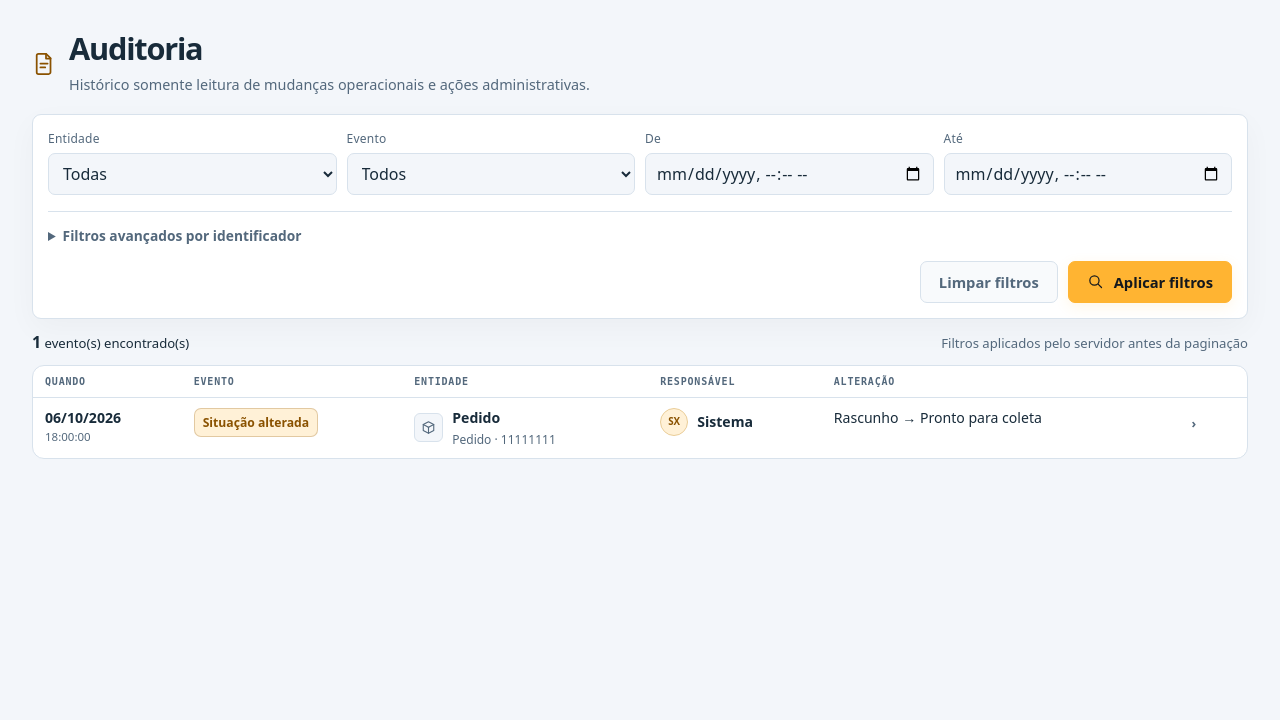
Test: AuditPage › preserva rastreabilidade de eventos do sistema sem responsável pessoal
Expected: the text "Sistema" is shown, [697,412,753,431]
Click the button named "Ver detalhes do evento 11111111" at [1194, 423], box [1179,408,1209,438]
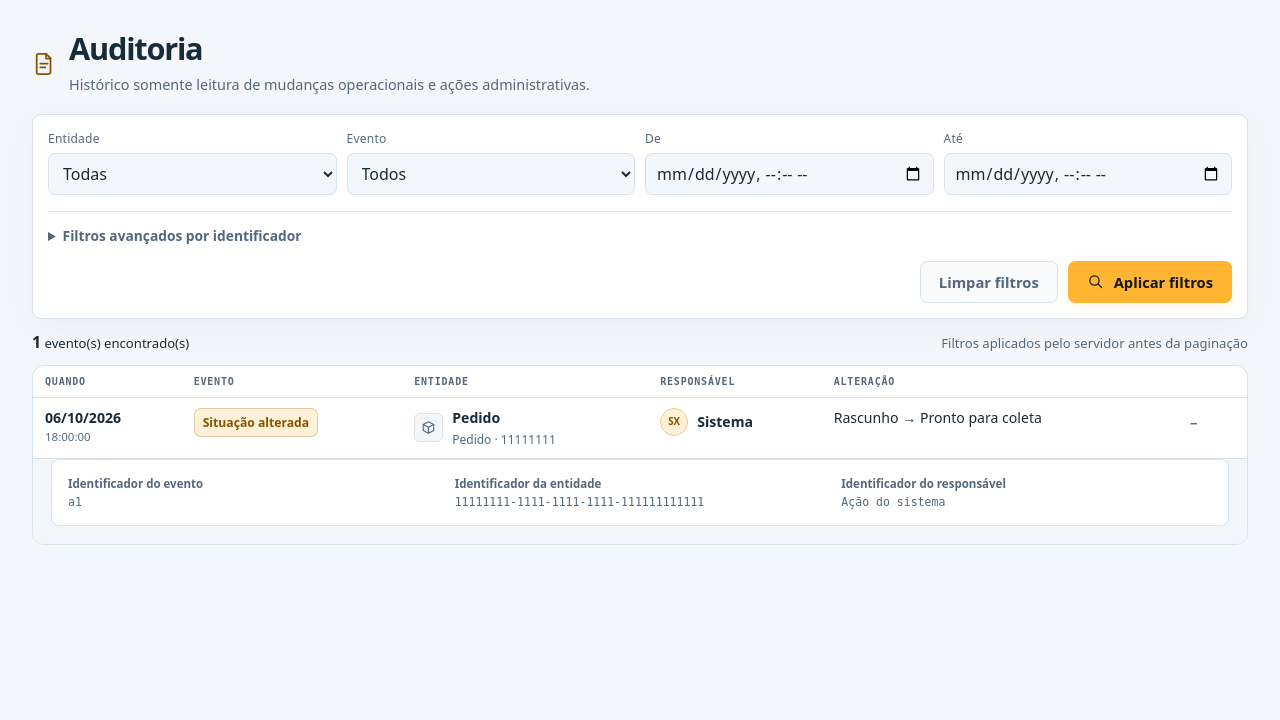
Now the text "11111111-1111-1111-1111-111111111111" is shown, box [455,495,704,509]
Click the button named "Ocultar detalhes do evento 11111111" at [1194, 423], box [1179,408,1209,438]
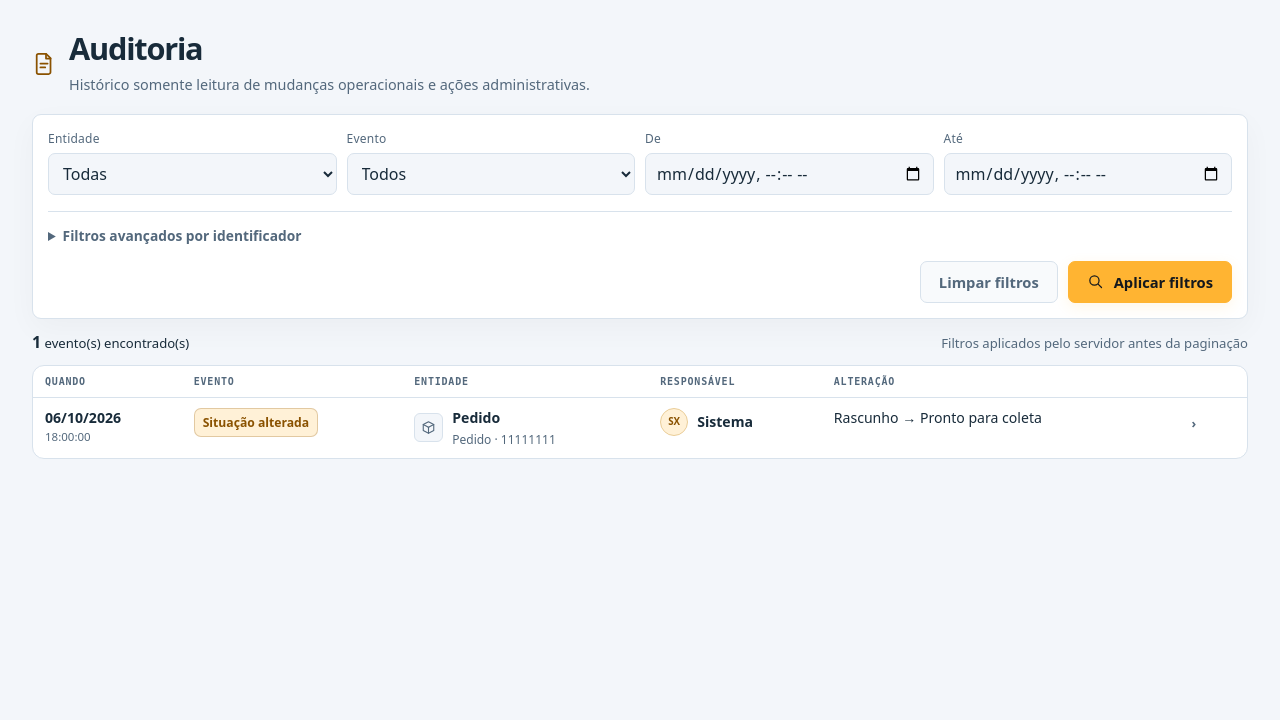
Now the text "11111111-1111-1111-1111-111111111111" is gone
